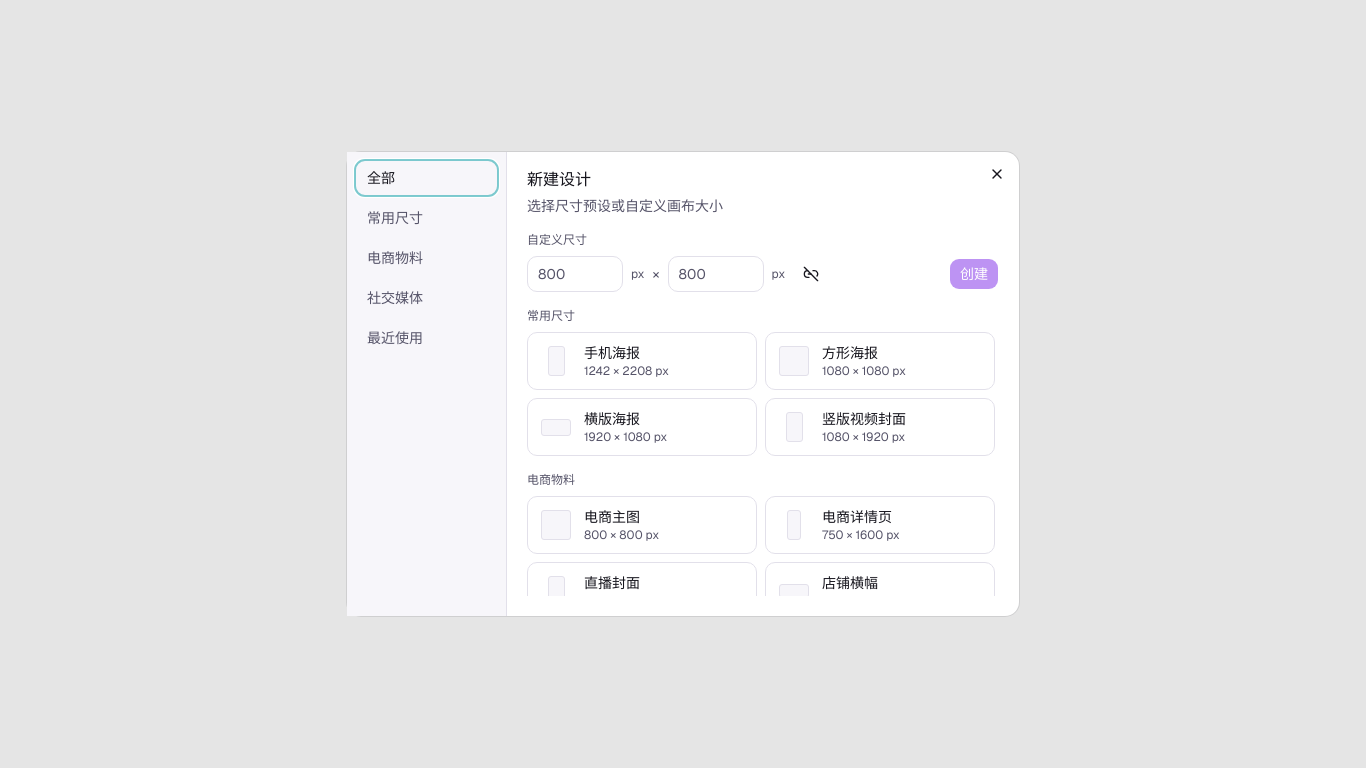
Test: 尺寸前置设置弹窗 › 锁定比例：改宽同步高（900×1200 锁定后改宽 600 → 高 800）
Type "900" into the number field named "宽". click: {"x": 575, "y": 274}
box: [527,256,623,292]
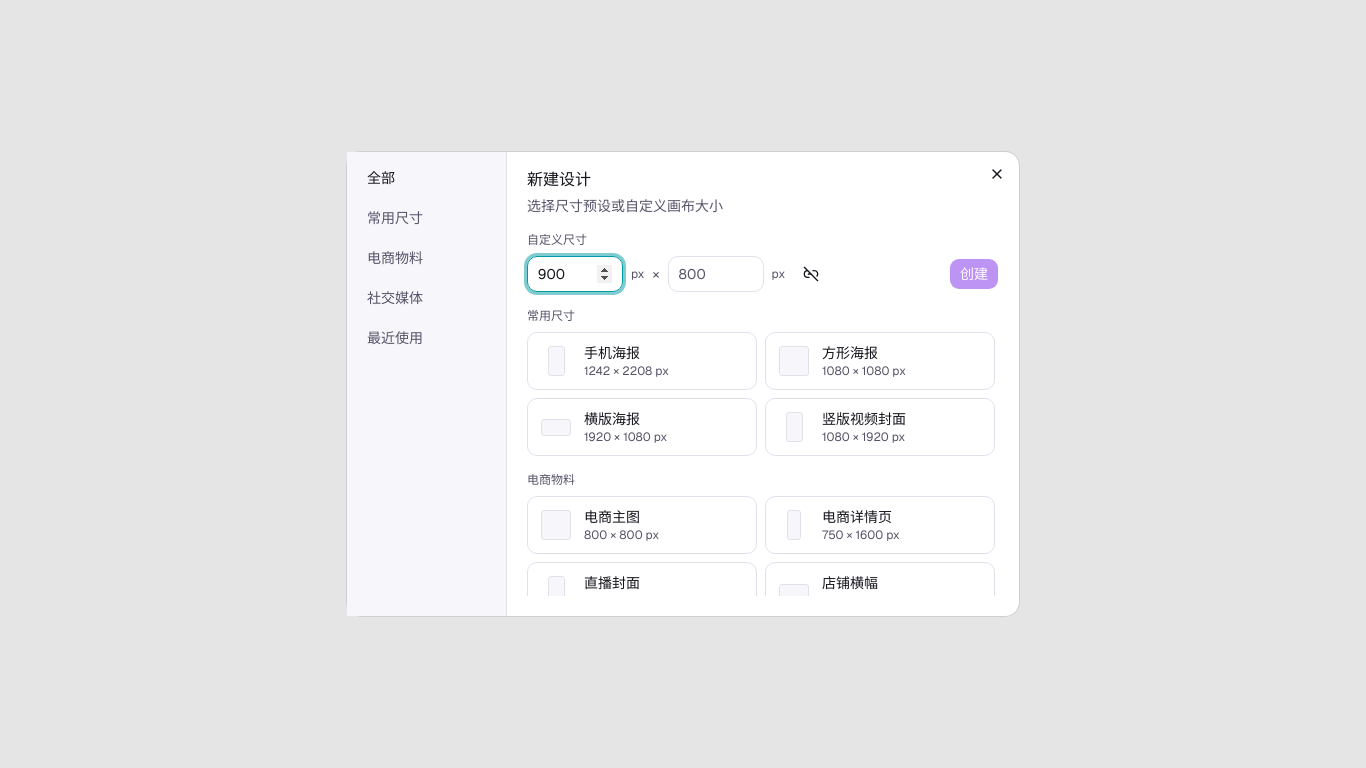
Type "1200" into the number field named "高". click: {"x": 716, "y": 274}
box: [668,256,764,292]
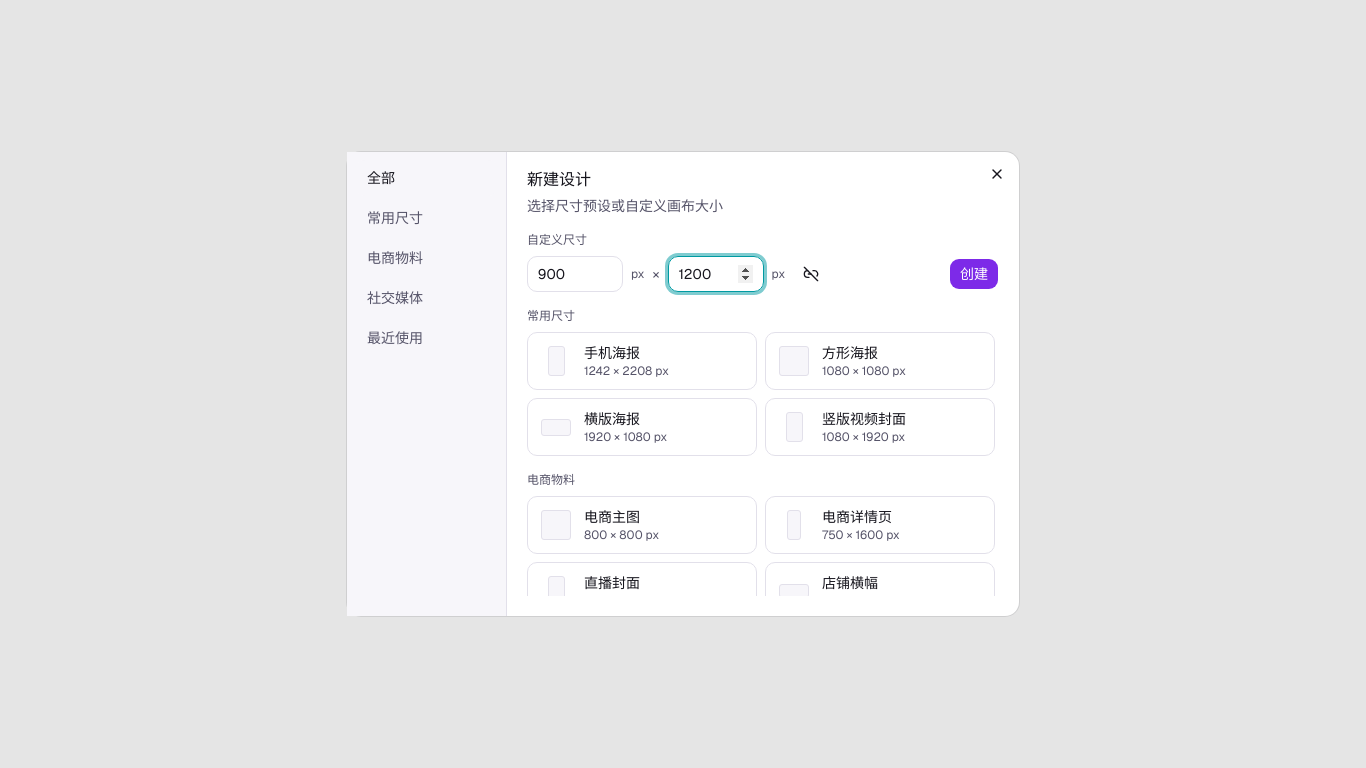
Click the button named "锁定比例". click: {"x": 811, "y": 274}
box: [793,256,829,292]
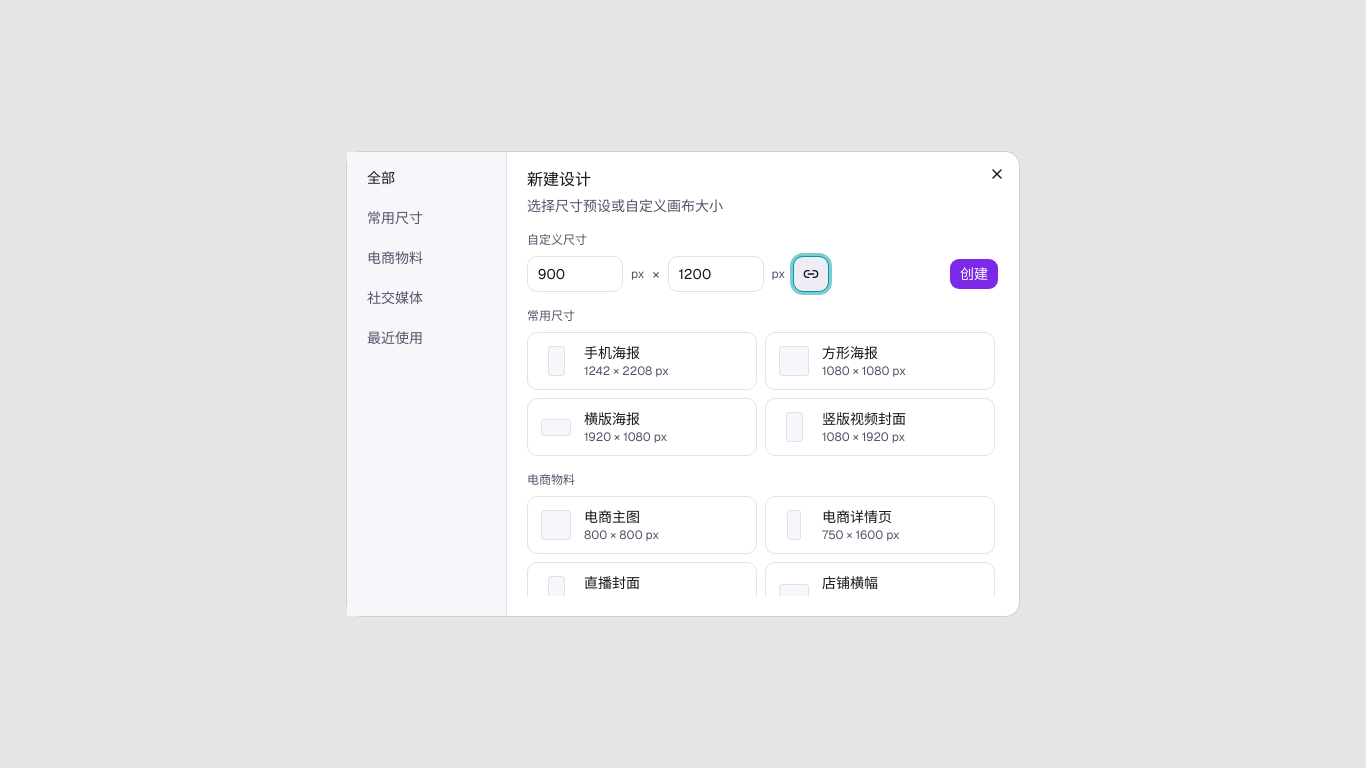
Replace the text in the number field named "宽" with "600". click: {"x": 575, "y": 274}
box: [527,256,623,292]
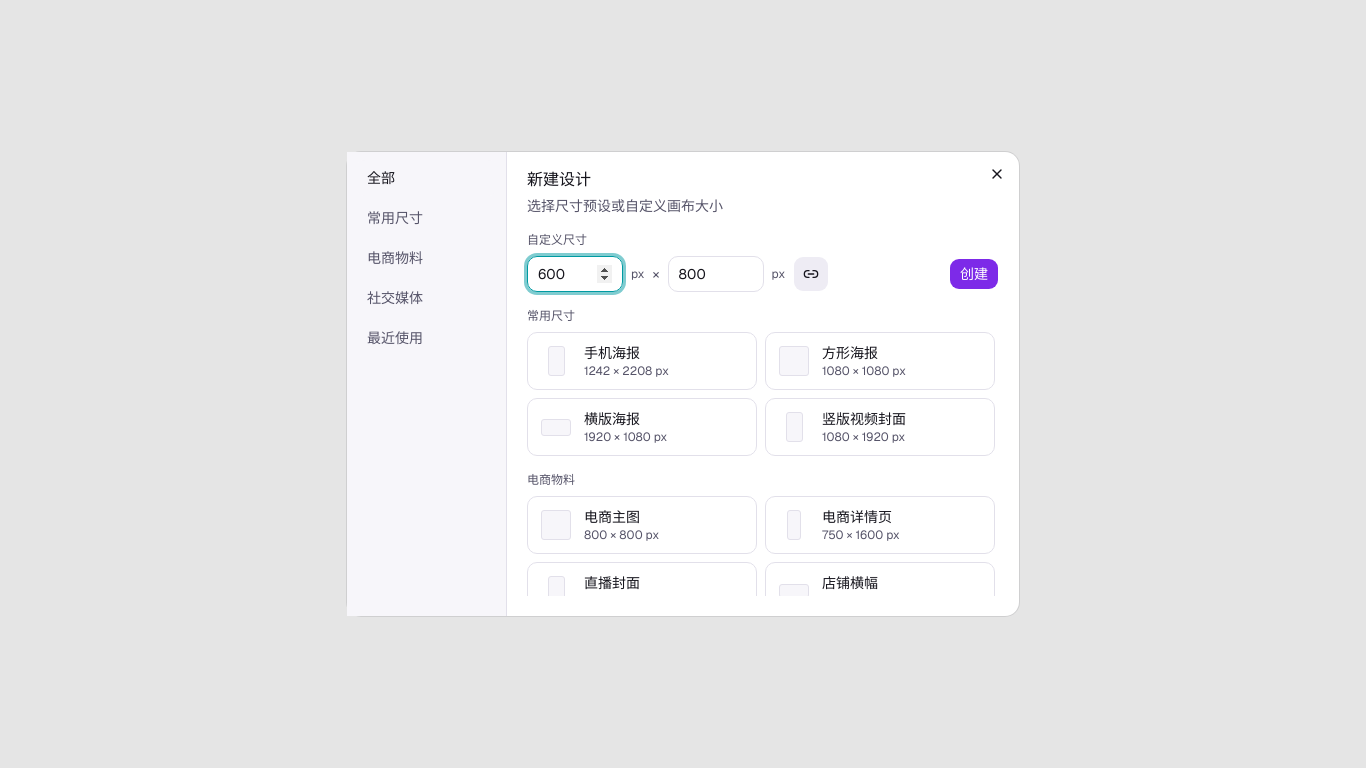
expect the number field named "高" holds "800": met, box [668,256,764,292]
